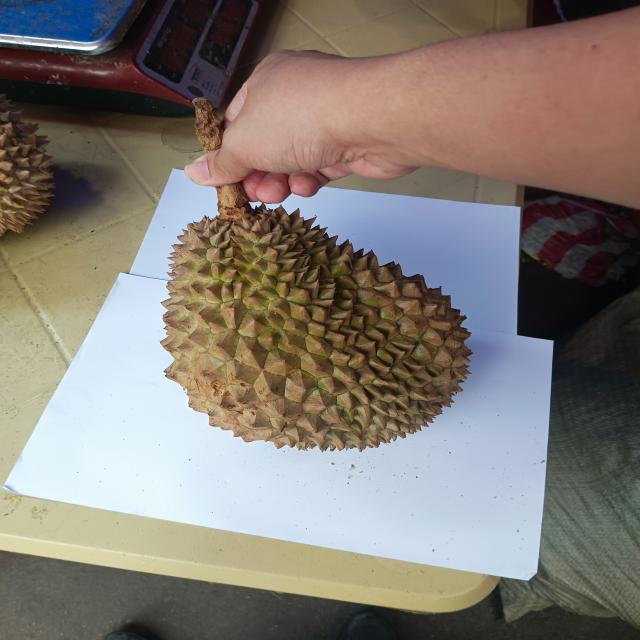mature: (158, 200, 473, 448)
